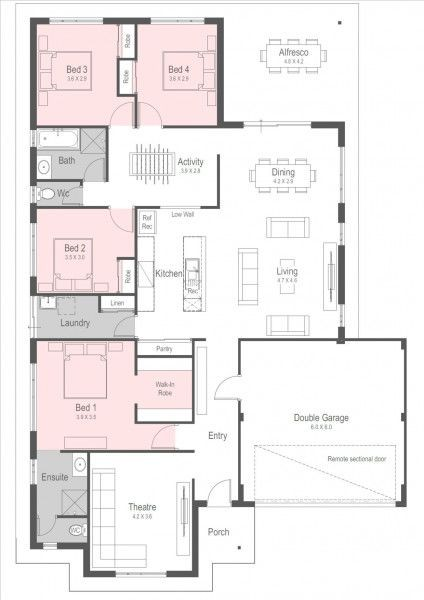room: (29, 338, 138, 453), (29, 17, 138, 126), (135, 17, 224, 128), (30, 206, 137, 296), (30, 125, 108, 182)
